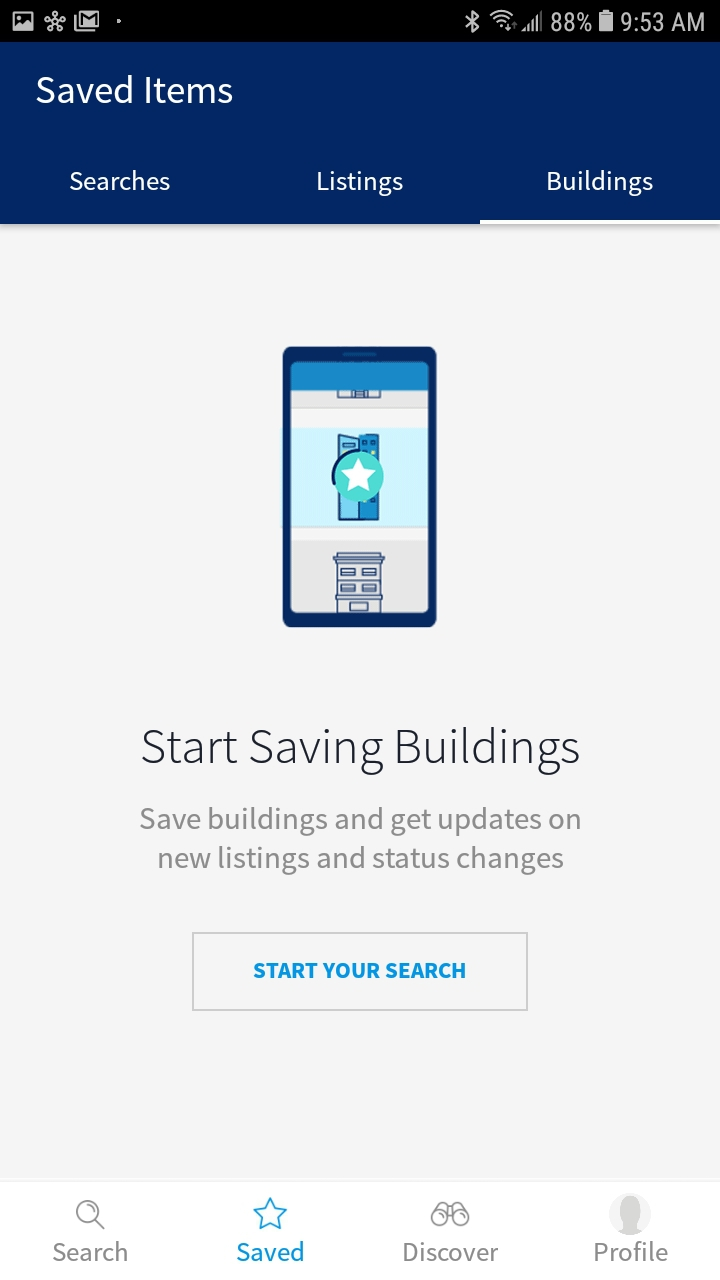Icon: (609, 1192, 652, 1236), (252, 1197, 288, 1230), (77, 1199, 107, 1230)
Image: (282, 346, 438, 629), (430, 1201, 470, 1227)
Text: (140, 806, 581, 876), (142, 726, 580, 776), (37, 75, 234, 105), (547, 170, 654, 198), (318, 171, 404, 198), (70, 170, 171, 192), (404, 1241, 499, 1262), (54, 1240, 129, 1262), (595, 1240, 669, 1262), (237, 1240, 305, 1262)
TextButton: (194, 933, 528, 1010)
UpperTaskBar: (1, 1, 720, 43)
